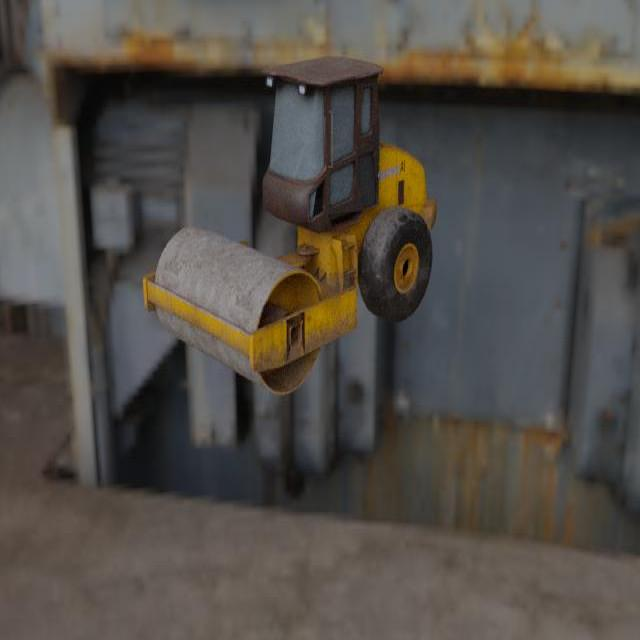Roller: (142, 54, 437, 394)
